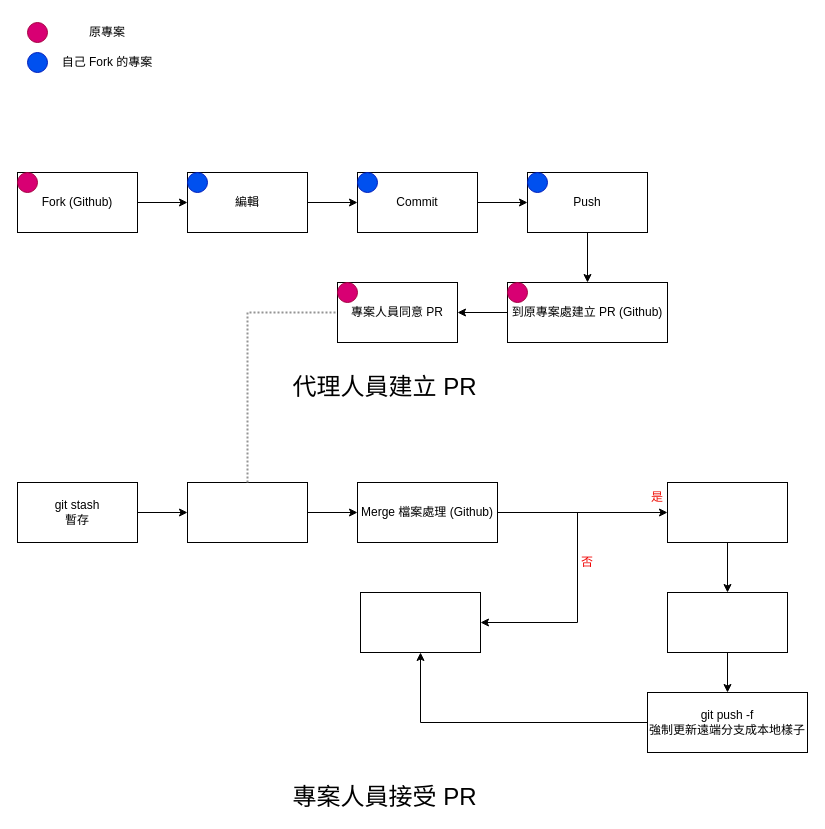
Some shapes in this 825 by 829 pixel diagram are drawn without their labels. Each missing label, with the centre of its shape:
git pull 自動啟動 auto merge: the point at 727,512
git stash pop 恢復暫存: the point at 420,622
同意 PR (Github): the point at 247,512
處理特殊合併檔案: the point at 727,622
